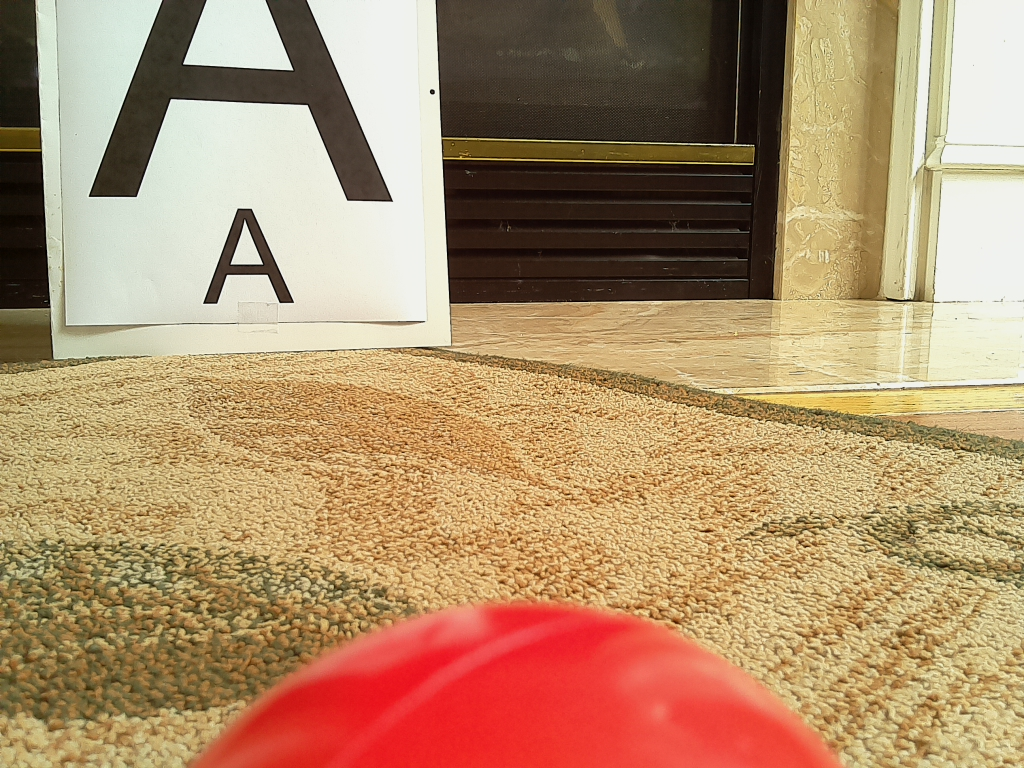letter: (203, 207, 296, 303)
